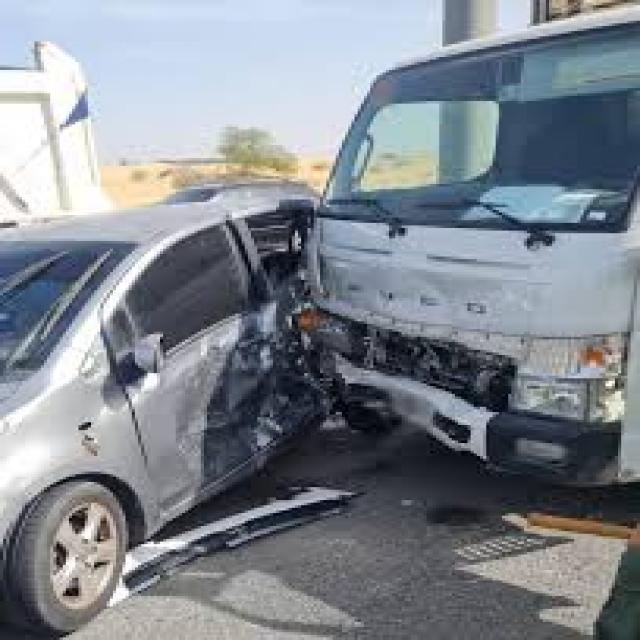accident: (49, 176, 604, 544)
